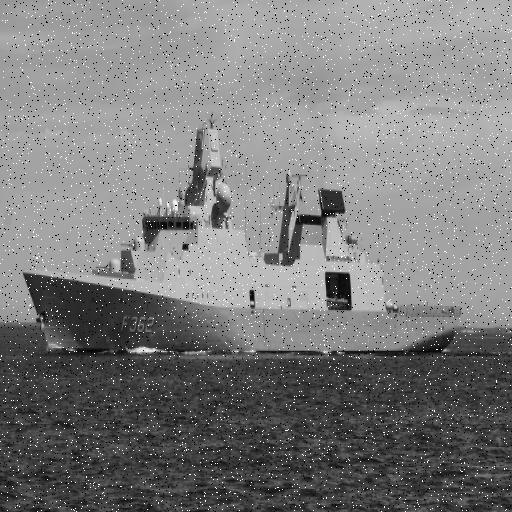Fragata: (22, 109, 464, 364)
